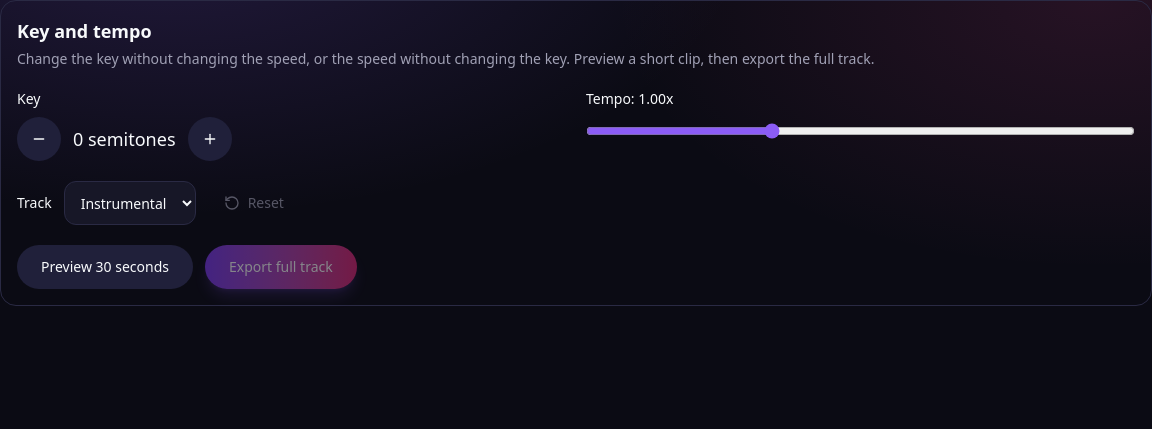
Test: KeyTempoPanel › gives up after repeated network errors
Click the button "Preview 30 seconds" at (105, 267), box [17,245,193,289]
Wait 39000 ms
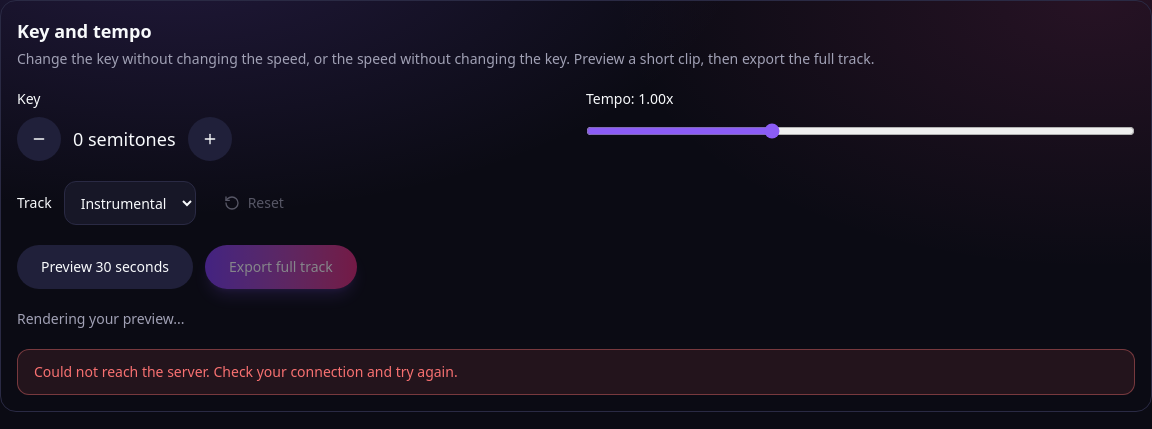
Result: the text "Could not reach the server. Check your connection and try again." is shown at [17,349,1135,395]
